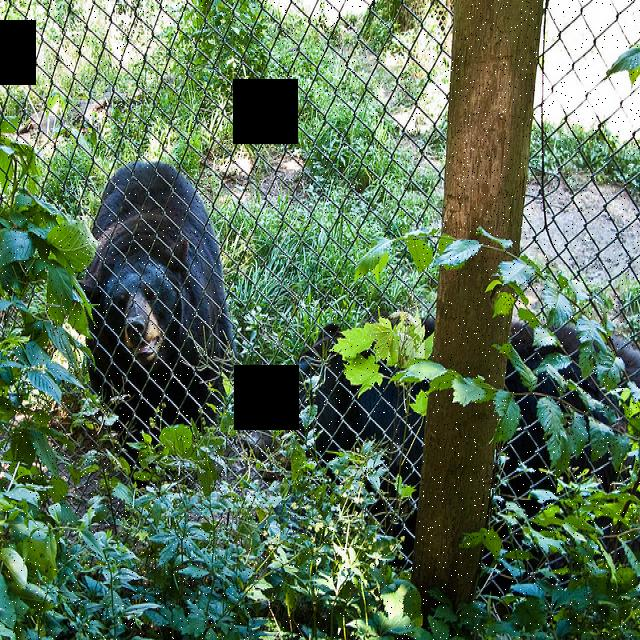Bear: (261, 316, 640, 512), (76, 145, 238, 432)
